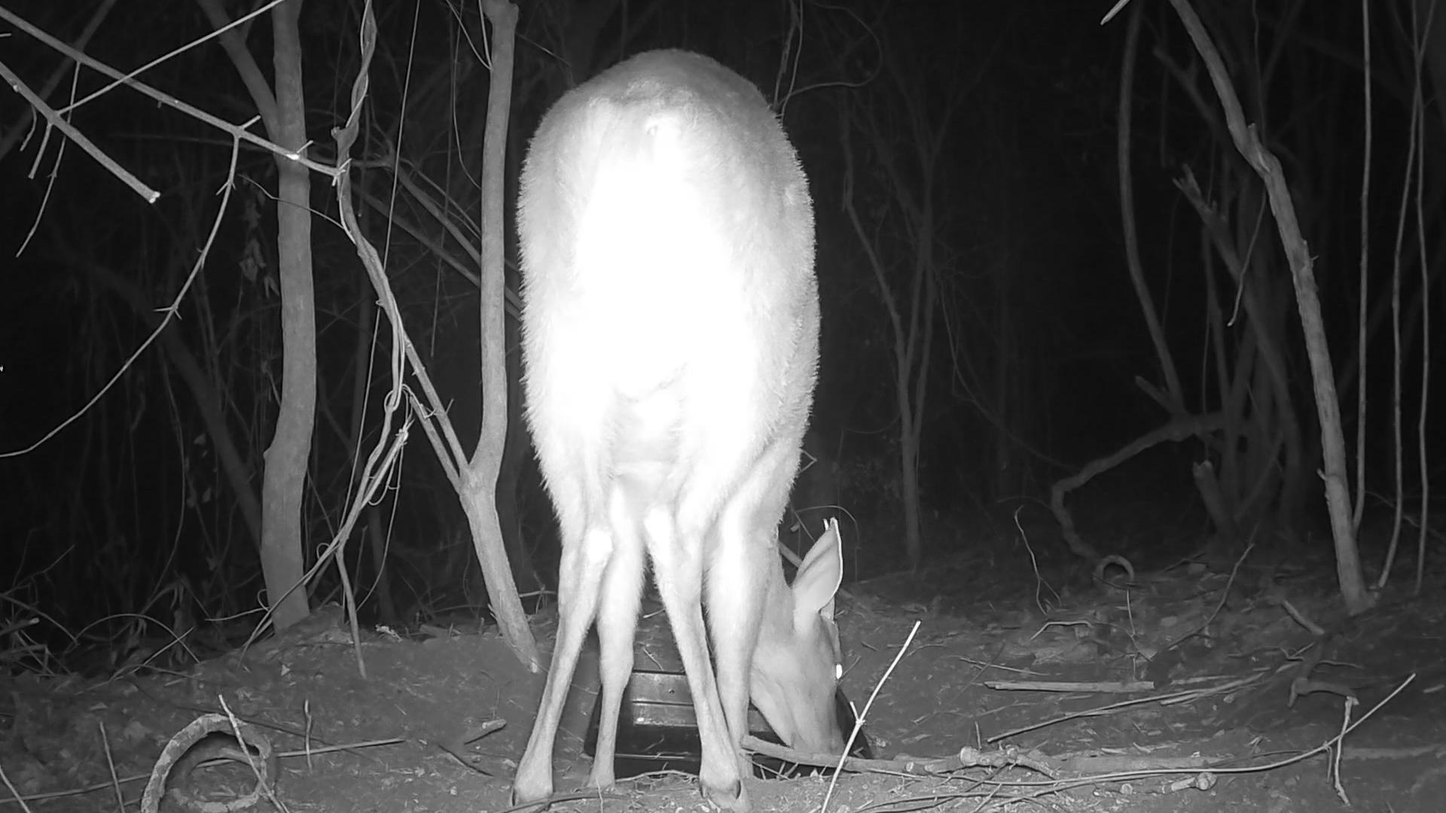ONCA_PARDA: (478, 26, 880, 813)
